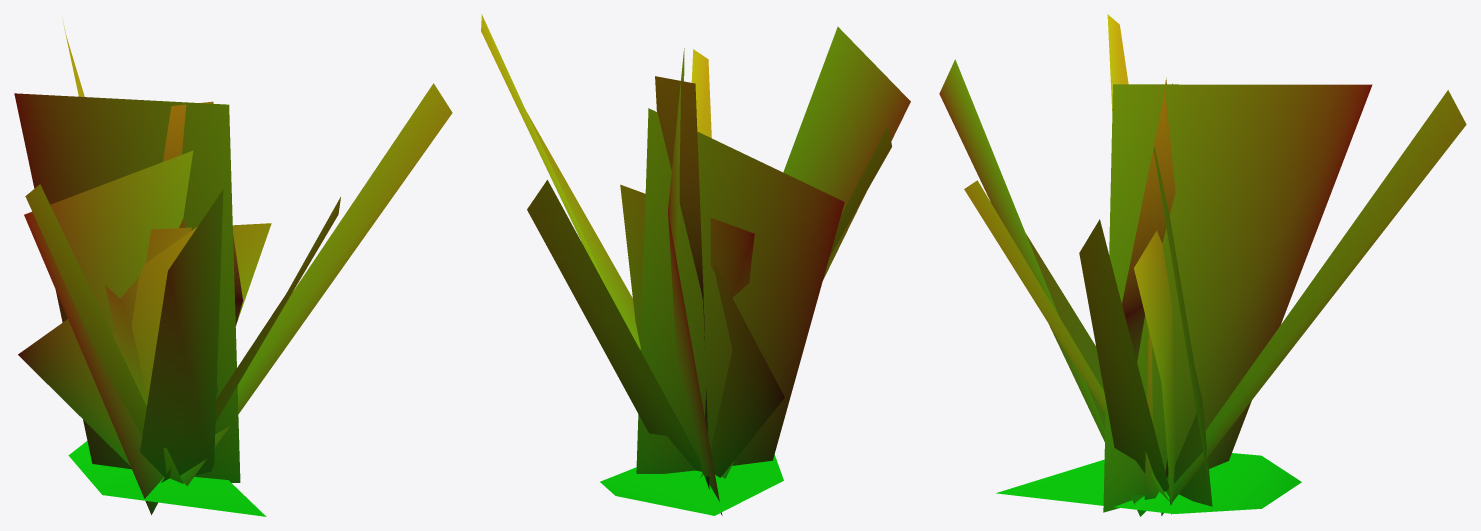
Rendered from Dead Finish_LOD2_Var4_ucokaamia.fbx.
The picture shows the model from 3 angles, left to right: view 1: azimuth 30°, elevation 25°; view 2: azimuth 150°, elevation 25°; view 3: azimuth 270°, elevation 25°; orthographic projection. The views are drawn at different scales.
Parts seen in each view (by area): view 1: _a9v6_Var4_LOD2; view 2: _a9v6_Var4_LOD2; view 3: _a9v6_Var4_LOD2.
Part boxes in pixels (x1=…): _a9v6_Var4_LOD2: x1=14, y1=19, x2=452, y2=516; _a9v6_Var4_LOD2: x1=481, y1=14, x2=910, y2=515; _a9v6_Var4_LOD2: x1=939, y1=14, x2=1466, y2=516.
Size of the model in its own units: 32.87 by 30.11 by 32.58.
